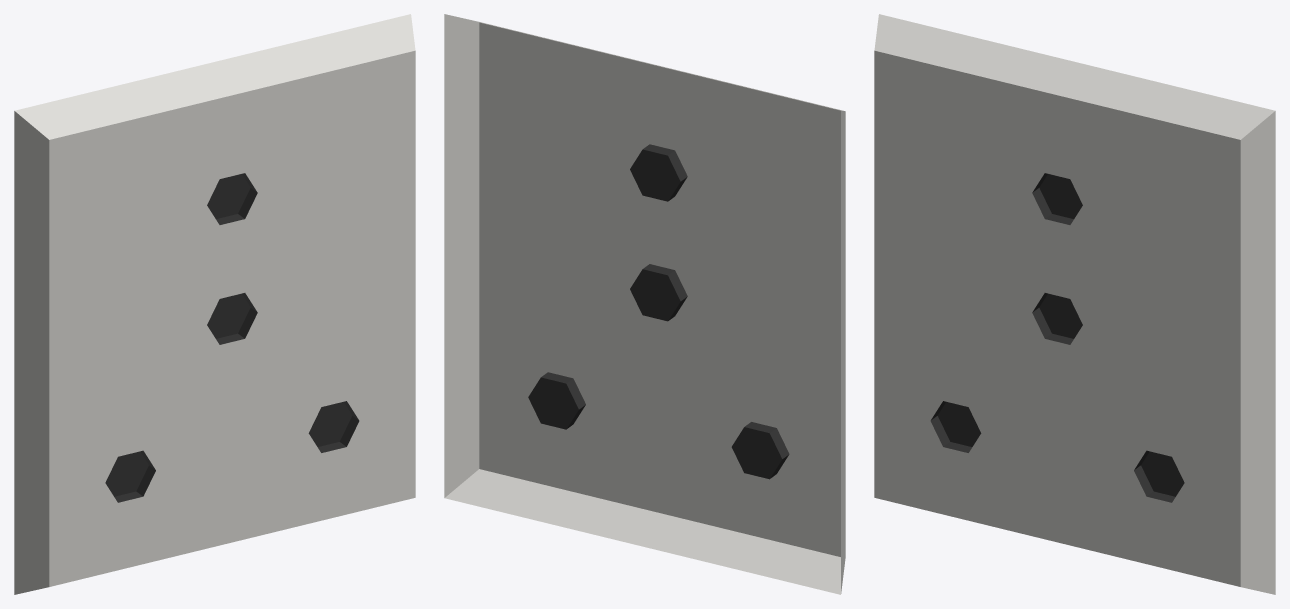
The model's file is Switch_1.fbx.
3 renders of one model, left to right at view 1: azimuth 30°, elevation 25°; view 2: azimuth 150°, elevation 25°; view 3: azimuth 330°, elevation 25°, orthographic.
Parts seen in each view (by area): view 1: polySurface1655; view 2: polySurface1655; view 3: polySurface1655.
Part boxes in pixels (left/top/right/bottom): polySurface1655: left=14, top=14, right=415, bottom=594; polySurface1655: left=444, top=14, right=845, bottom=594; polySurface1655: left=874, top=14, right=1275, bottom=594.
Size of the model in its own units: 0.1872 by 0.2184 by 0.0161.
1 material, 1 textured.
